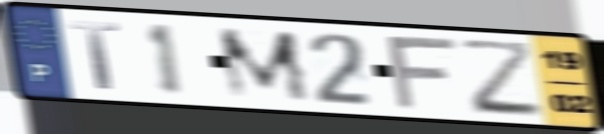1: (144, 21, 183, 97)
2: (306, 31, 374, 106)
F: (383, 35, 462, 112)
M: (214, 27, 316, 103)
T: (66, 19, 124, 92)
Z: (455, 38, 548, 119)
